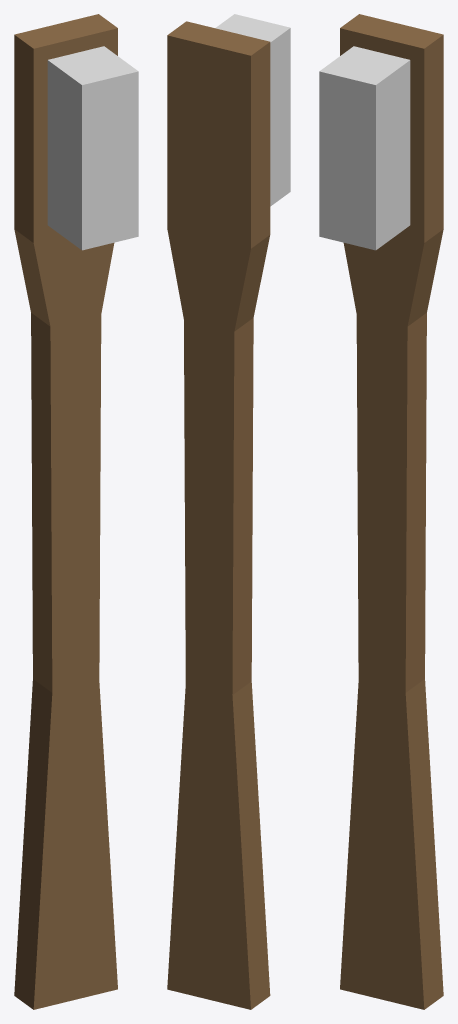
File: Toothbrush_04.fbx
3 views of the same model, side by side, from view 1: azimuth 30°, elevation 25°; view 2: azimuth 150°, elevation 25°; view 3: azimuth 330°, elevation 25° (orthographic).
Visible parts, largest first — view 1: Toothbrush_04; view 2: Toothbrush_04; view 3: Toothbrush_04.
Part boxes in pixels (left/top/right/bottom): Toothbrush_04: left=14, top=14, right=138, bottom=1009; Toothbrush_04: left=167, top=14, right=290, bottom=1009; Toothbrush_04: left=319, top=14, right=443, bottom=1009.
Size of the model in its own units: 1.81 by 19.69 by 2.
